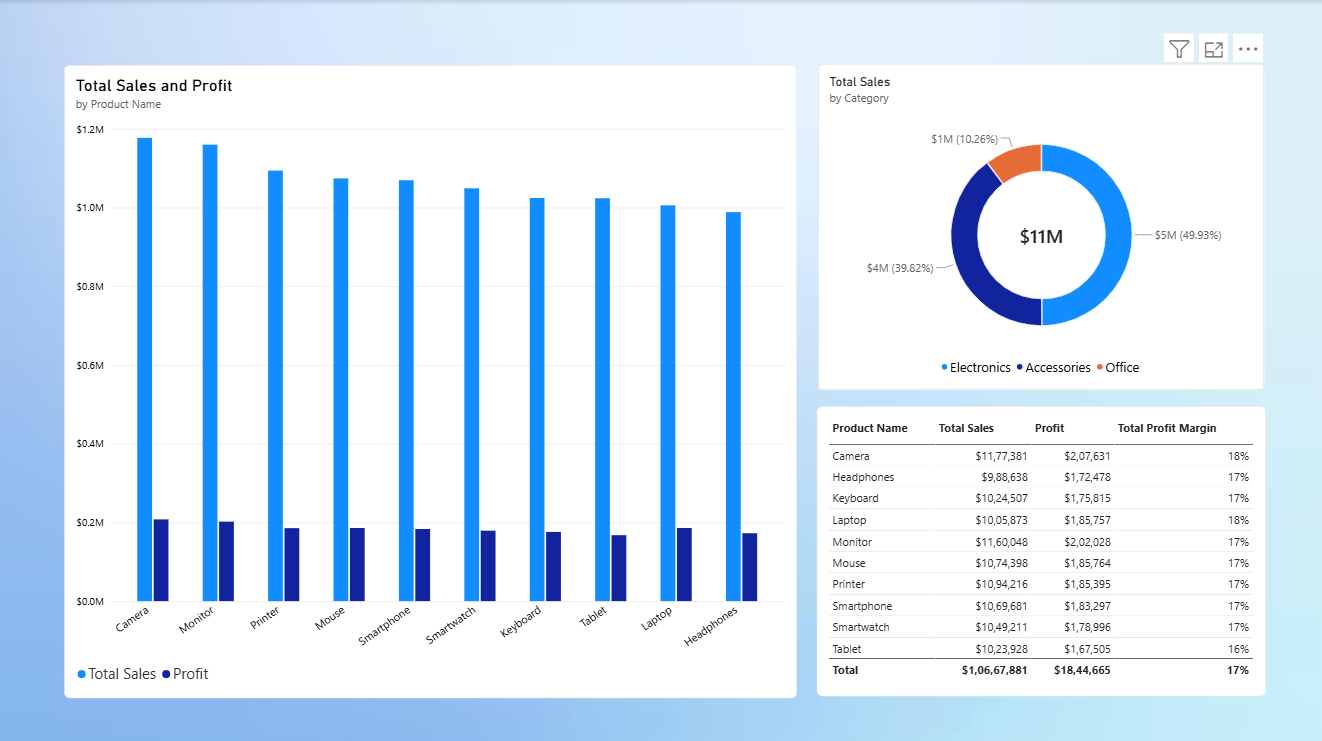

The dashboard page shown, as its layout file describes it:
{"tool":"powerbi","page":{"name":"Product Performance","canvas":[1920,1080],"ordinal":1},"visuals":[{"type":"donutChart","fields":{"Category":["1  project ecommerce raw data.Category"],"Y":["1  project ecommerce raw data.Total Sales"]},"box":[1186.2,92.5,647.5,472.5],"z":0},{"type":"tableEx","fields":{"Values":["1  project ecommerce raw data.Product Name","1  project ecommerce raw data.Total Sales","1  project ecommerce raw data.Profit","1  project ecommerce raw data.Total Profit Margin"]},"box":[1185,588.8,650,420],"z":1000},{"type":"clusteredColumnChart","fields":{"Category":["1  project ecommerce raw data.Product Name"],"Y":["1  project ecommerce raw data.Total Sales","1  project ecommerce raw data.Profit"]},"box":[95.8,93.8,1060.4,916.7],"z":2000}]}

Visuals, with their boxes in screenshot pixels (x1, y1, x2, y2), scaled from the page's 1920x1080 canvas onto the 1322x741 screenshot:
donutChart - 1  project ecommerce raw data.Category x 1  project ecommerce raw data.Total Sales: (817, 63, 1263, 388)
tableEx - 1  project ecommerce raw data.Product Name x 1  project ecommerce raw data.Total Sales: (816, 404, 1263, 692)
clusteredColumnChart - 1  project ecommerce raw data.Product Name x 1  project ecommerce raw data.Total Sales: (66, 64, 796, 693)
